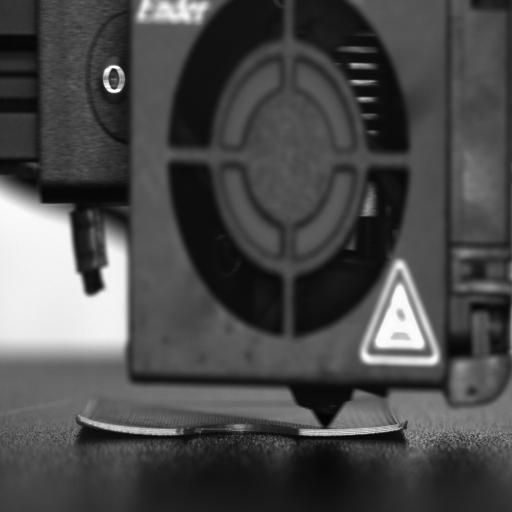warp: (75, 414, 195, 437), (294, 421, 405, 438)
